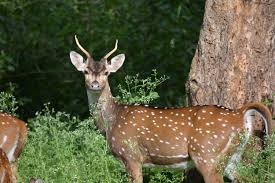Deer: (69, 34, 274, 183), (1, 108, 32, 183)
